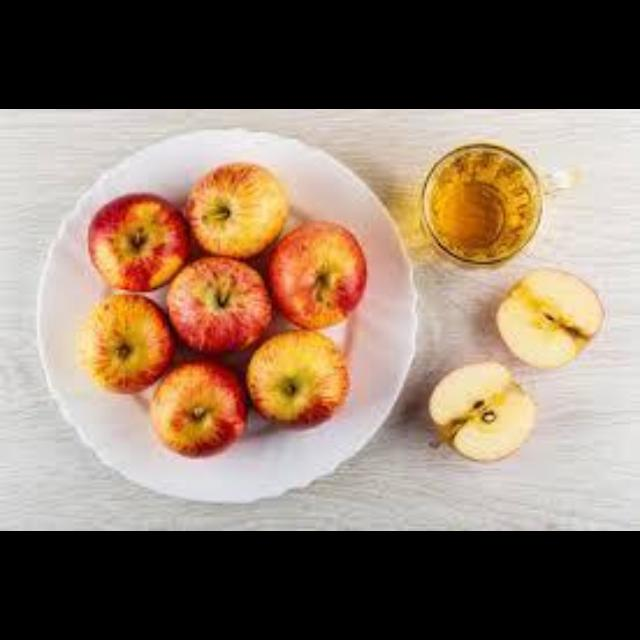apple: (267, 220, 364, 327), (496, 269, 603, 366), (429, 362, 533, 459), (246, 329, 348, 427), (167, 257, 271, 352), (88, 192, 188, 290), (186, 162, 288, 257), (79, 295, 174, 392), (151, 359, 246, 455)
